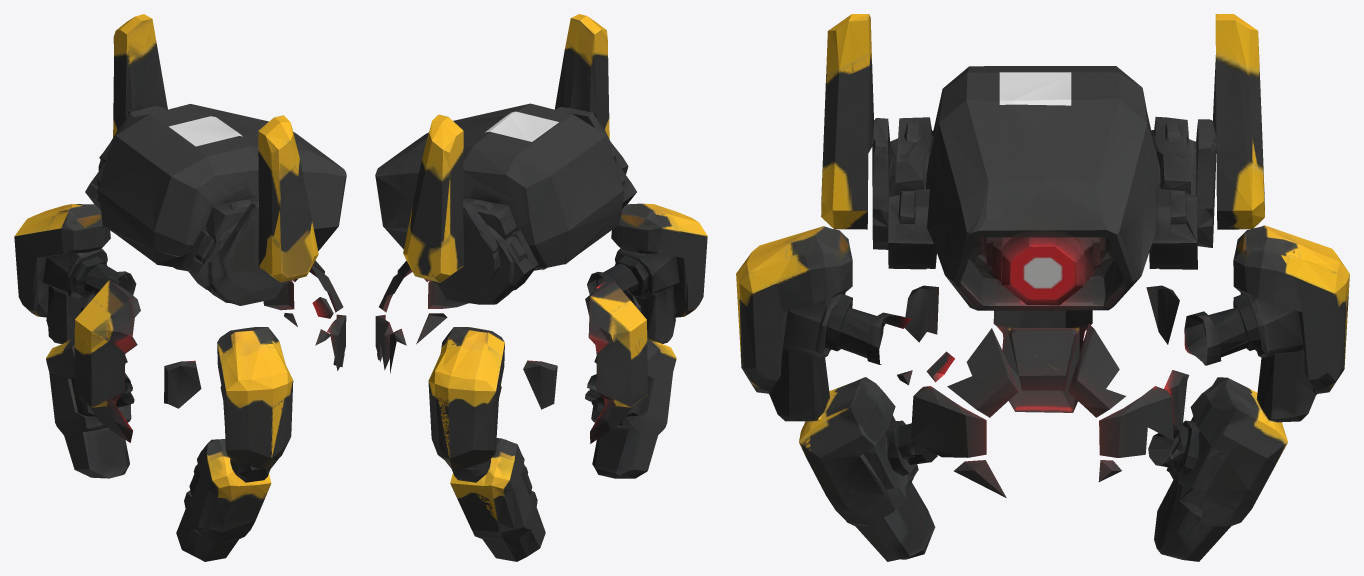
File: SM_KamikazeDebris_Torso.fbx
3 renders of one model, left to right at view 1: azimuth 30°, elevation 25°; view 2: azimuth 150°, elevation 25°; view 3: azimuth 270°, elevation 25°, orthographic. The views are drawn at different scales.
Visible parts, largest first — view 1: SM_KamikazeDebris_Torso, Z_Emblem; view 2: SM_KamikazeDebris_Torso, Z_Emblem; view 3: SM_KamikazeDebris_Torso, Z_Emblem.
Part boxes in pixels (x1,y1,x2,y2): SM_KamikazeDebris_Torso: [14, 14, 346, 561]; Z_Emblem: [169, 116, 242, 146]; SM_KamikazeDebris_Torso: [375, 14, 707, 561]; Z_Emblem: [485, 111, 558, 141]; SM_KamikazeDebris_Torso: [736, 14, 1349, 561]; Z_Emblem: [999, 72, 1071, 105].
Size of the model in its own units: 111 by 194 by 188.
Materials: 2 (1 with a texture image).
